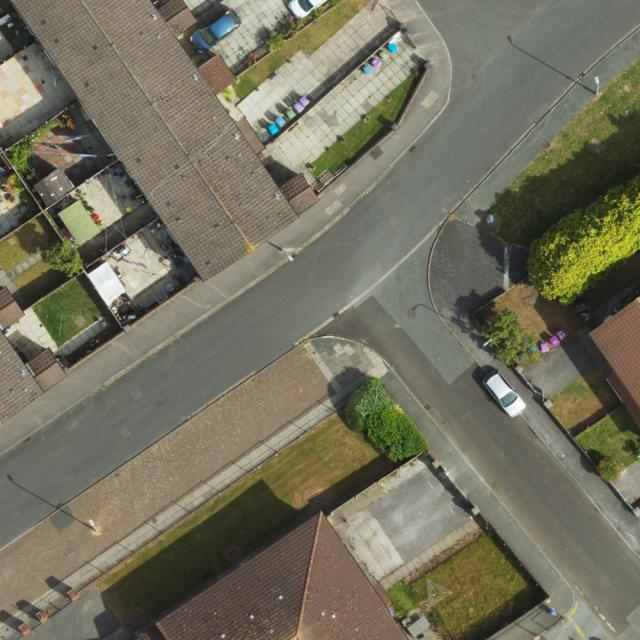roof: (16, 1, 320, 280), (136, 509, 411, 640), (0, 285, 68, 426), (588, 297, 640, 415)
